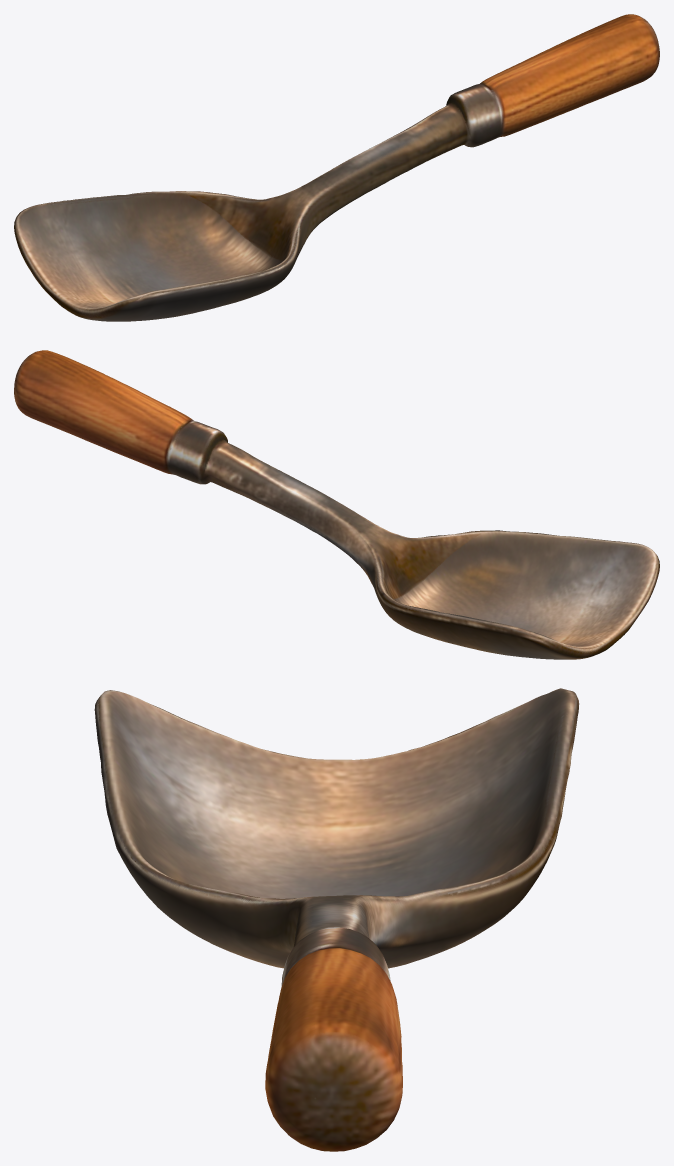
Rendered from SpatulaU02AI.fbx.
3 views of the same model, one above another, from view 1: azimuth 30°, elevation 25°; view 2: azimuth 150°, elevation 25°; view 3: azimuth 270°, elevation 25° (orthographic). The views are drawn at different scales.
Parts seen in each view (by area): view 1: Retopo_Mesh.001; view 2: Retopo_Mesh.001; view 3: Retopo_Mesh.001.
Part boxes in pixels (x1,y1,x2,y2): Retopo_Mesh.001: [14, 14, 659, 321]; Retopo_Mesh.001: [14, 350, 659, 659]; Retopo_Mesh.001: [94, 688, 579, 1151].
Size of the model in its own units: 1 by 0.2786 by 0.3566.
